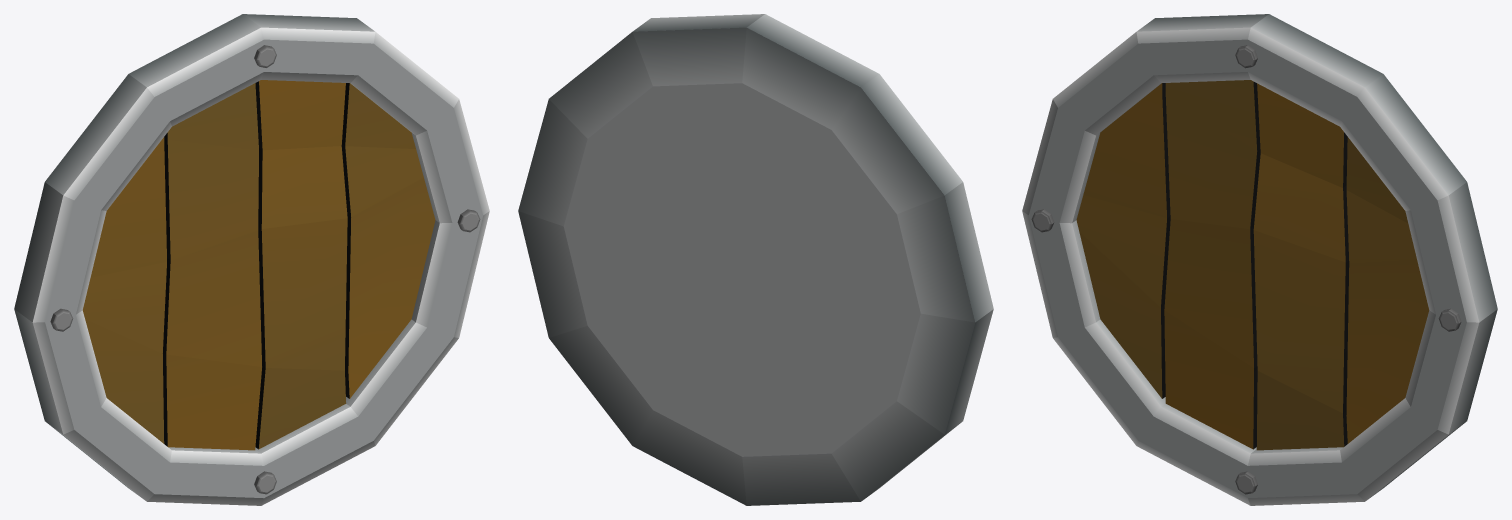
Rendered from shield_3.fbx.
3 renders of one model, left to right at view 1: azimuth 30°, elevation 25°; view 2: azimuth 150°, elevation 25°; view 3: azimuth 330°, elevation 25°, orthographic.
Visible parts, largest first — view 1: shield_3; view 2: shield_3; view 3: shield_3.
Part boxes in pixels (left/top/right/bottom): shield_3: left=14, top=14, right=489, bottom=505; shield_3: left=518, top=14, right=993, bottom=505; shield_3: left=1022, top=14, right=1497, bottom=505.
Bounding box in the file's own units: 0.5055 × 0.5055 × 0.0551.
